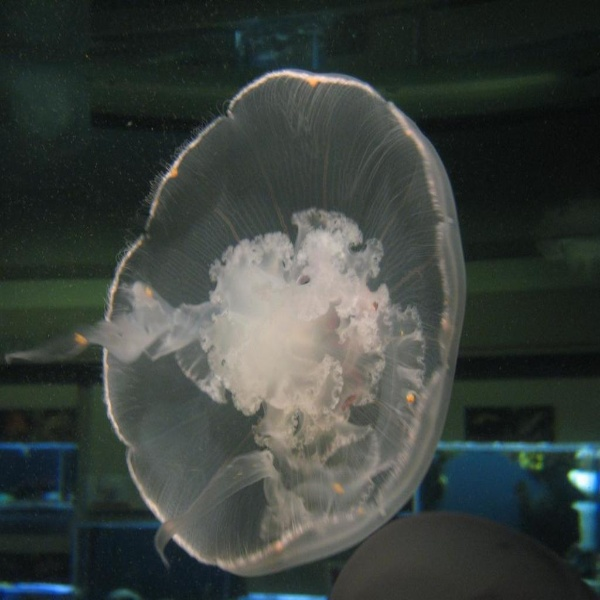Jellyfish: (102, 65, 474, 583)
